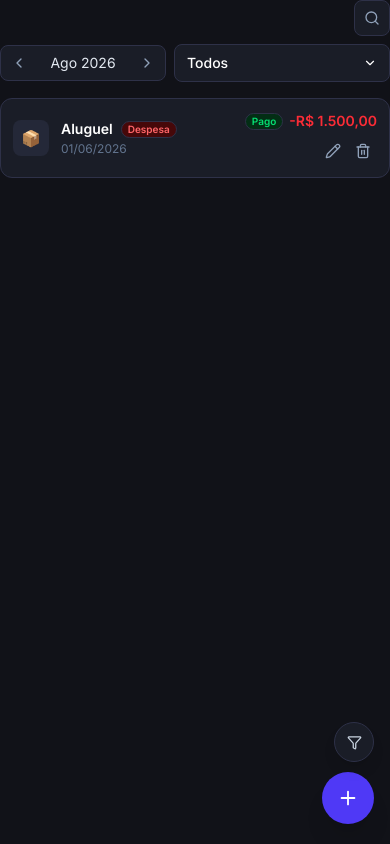
Test case: Transactions › abre dialog de edição ao clicar no botão Editar
The image size is (390, 844).
# iconButtons: Pencil, Trash2 (Pay button absent since paid: true)
Click the 5th button: (333, 151) left=319, top=137, right=347, bottom=165
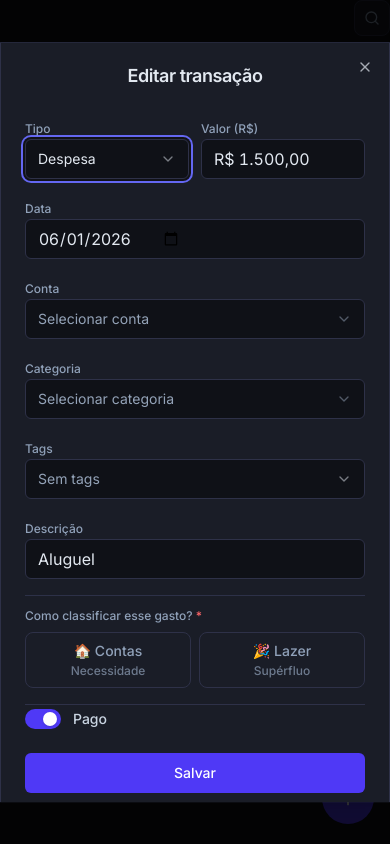
Check: the dialog is shown
Check: the heading "Editar transação" is shown, box left=128, top=65, right=262, bottom=86
